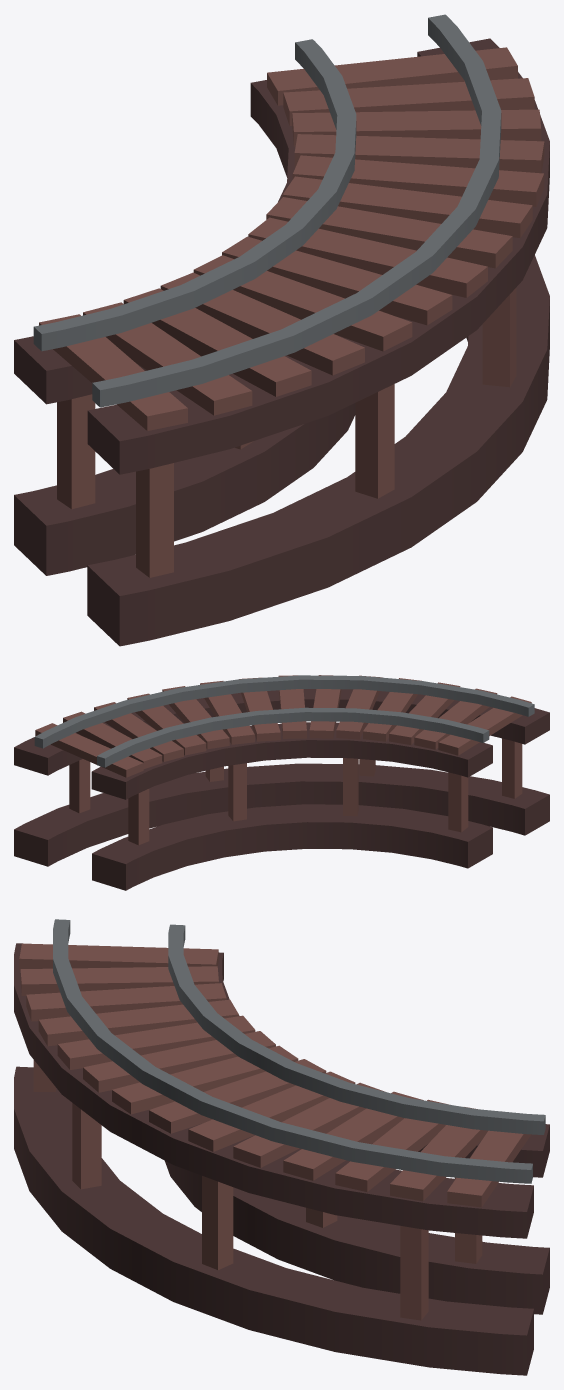
Rendered from DarkRoseWoodMechSmall0_96GaugeRightTurn1.fbx.
The picture shows the model from 3 angles, top to bottom: view 1: azimuth 30°, elevation 25°; view 2: azimuth 150°, elevation 25°; view 3: azimuth 270°, elevation 25°; orthographic projection. The views are drawn at different scales.
Visible parts, largest first — view 1: DarkRoseWoodMechSmall0_96GaugeRightTurn1; view 2: DarkRoseWoodMechSmall0_96GaugeRightTurn1; view 3: DarkRoseWoodMechSmall0_96GaugeRightTurn1.
Boxes of the visible parts, x1,y1,x2,y2 form: DarkRoseWoodMechSmall0_96GaugeRightTurn1: [14, 14, 549, 646]; DarkRoseWoodMechSmall0_96GaugeRightTurn1: [14, 675, 549, 890]; DarkRoseWoodMechSmall0_96GaugeRightTurn1: [14, 919, 549, 1375].
Bounding box in the file's own units: 673 × 221 × 567.
